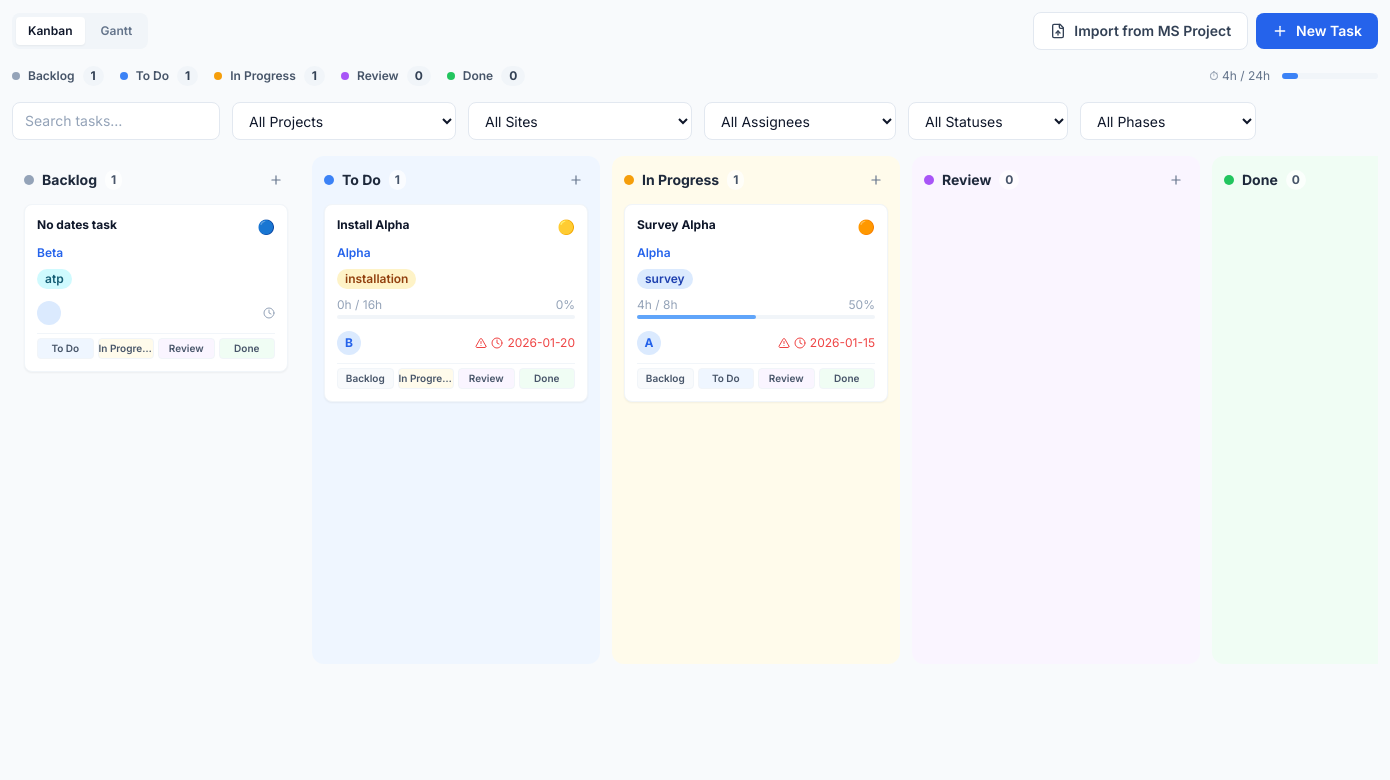
TaskBoard — tabs › shared filters apply to the Gantt view
Click the tab "gantt": (116, 31) [88, 17, 144, 45]
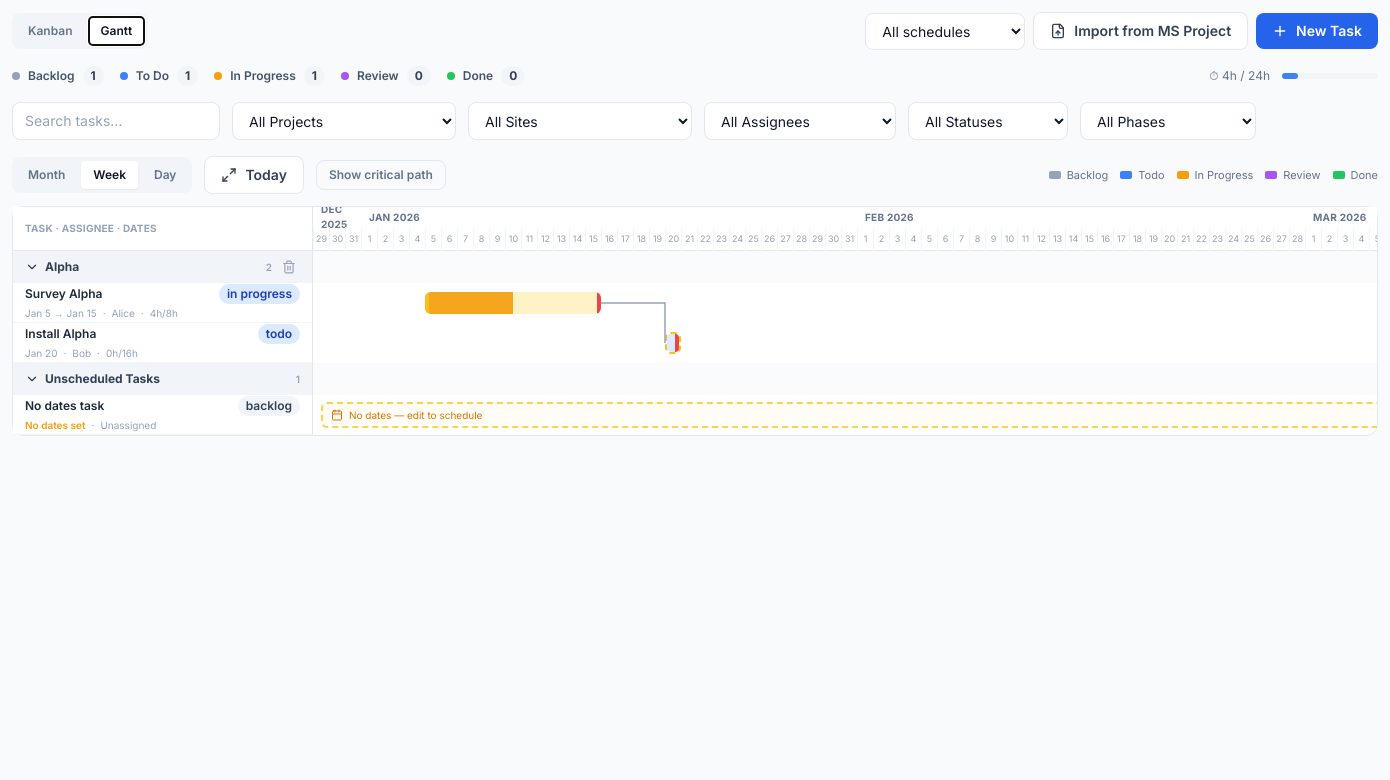
Select "Alpha" in the 2nd dropdown showing "All Projects": (344, 121) [232, 102, 456, 140]
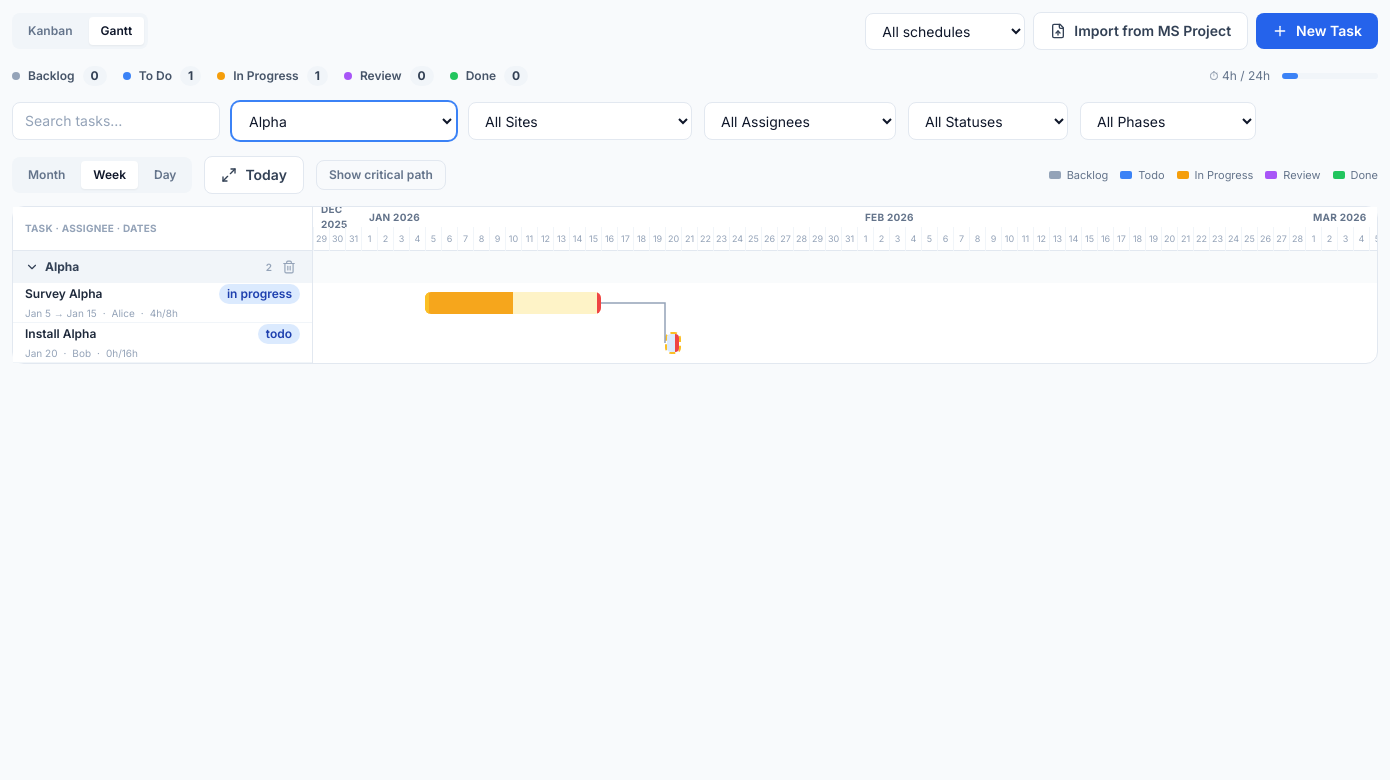
Check: the text "Survey Alpha" is shown, box [25, 286, 102, 301]
Check: the button "No dates task" is gone
